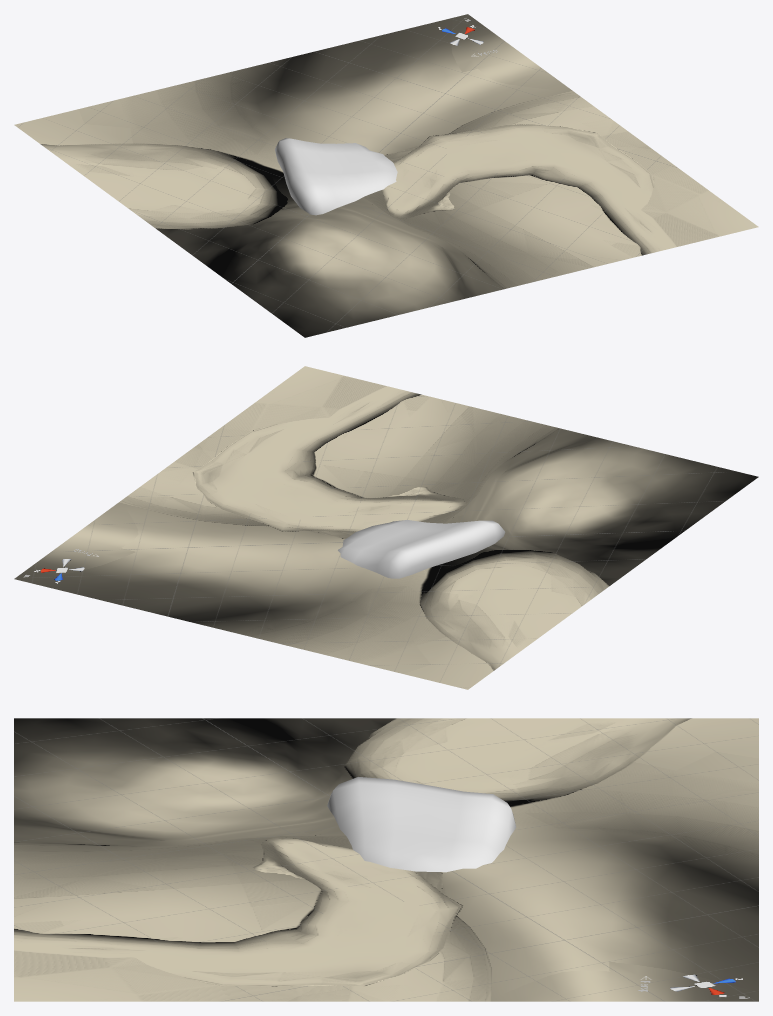
Rendered from msh_Rampa_1.fbx.
3 renders of one model, top to bottom at view 1: azimuth 30°, elevation 25°; view 2: azimuth 150°, elevation 25°; view 3: azimuth 270°, elevation 25°, orthographic. The views are drawn at different scales.
Parts seen in each view (by area): view 1: Plane001, rampa; view 2: Plane001, rampa; view 3: Plane001, rampa.
Boxes of the visible parts, left/top/right/bottom form: Plane001: left=14, top=14, right=758, bottom=337; rampa: left=275, top=138, right=397, bottom=215; Plane001: left=14, top=366, right=758, bottom=689; rampa: left=338, top=520, right=505, bottom=578; Plane001: left=14, top=718, right=758, bottom=1001; rampa: left=327, top=777, right=516, bottom=872.
Size of the model in its own units: 145 by 27.05 by 161.
1 material, 1 textured.
